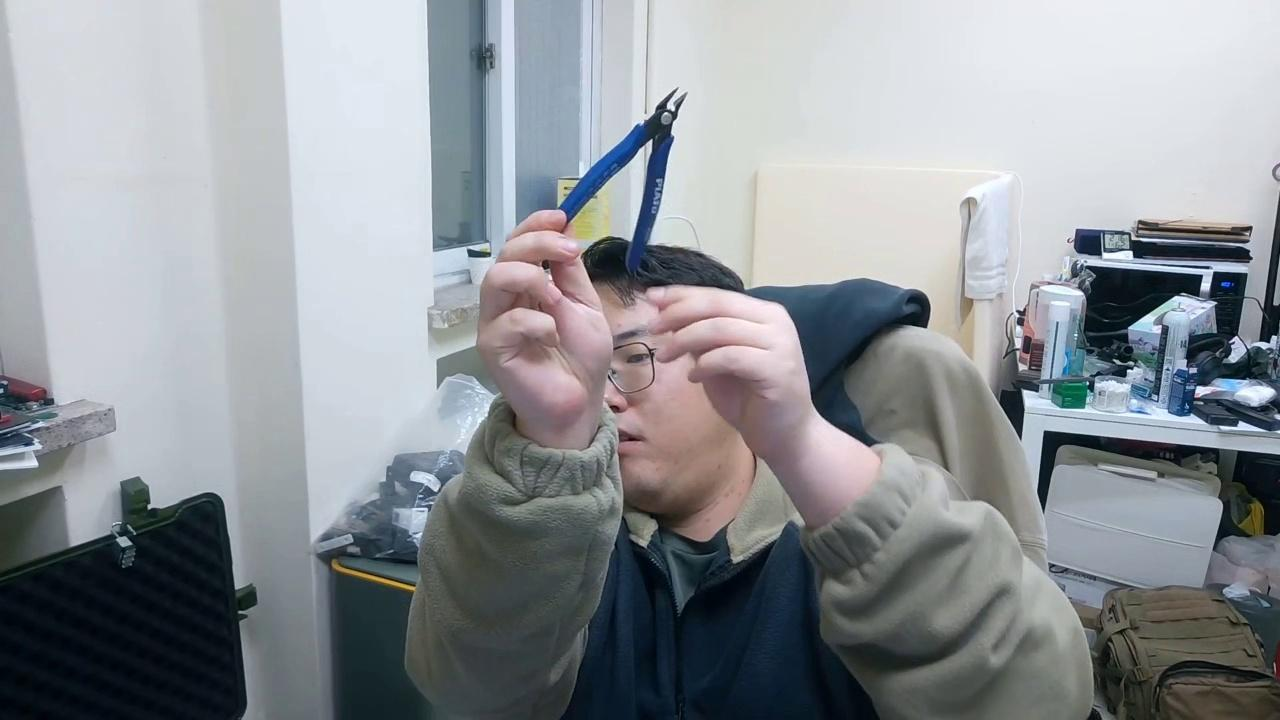blue_pliers: (555, 85, 689, 277)
